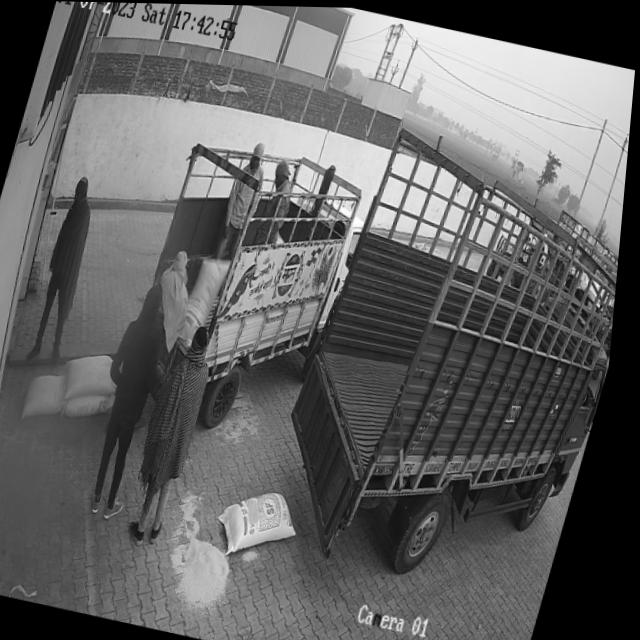sack: (217, 480, 315, 567), (64, 347, 132, 407), (27, 367, 79, 423), (70, 387, 123, 423)
